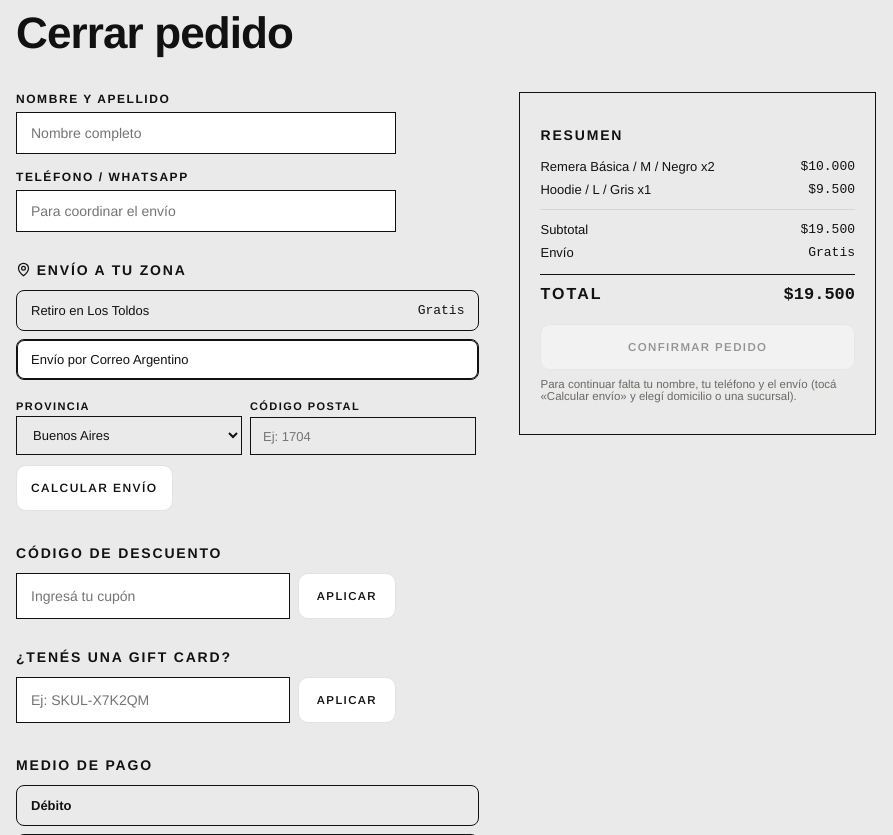
Scenario: Envío por Correo Argentino › falla la cotización: muestra el mensaje de la API
Type "99999" into the field with placeholder "Ej: 1704" at (363, 436), box [250, 417, 476, 455]
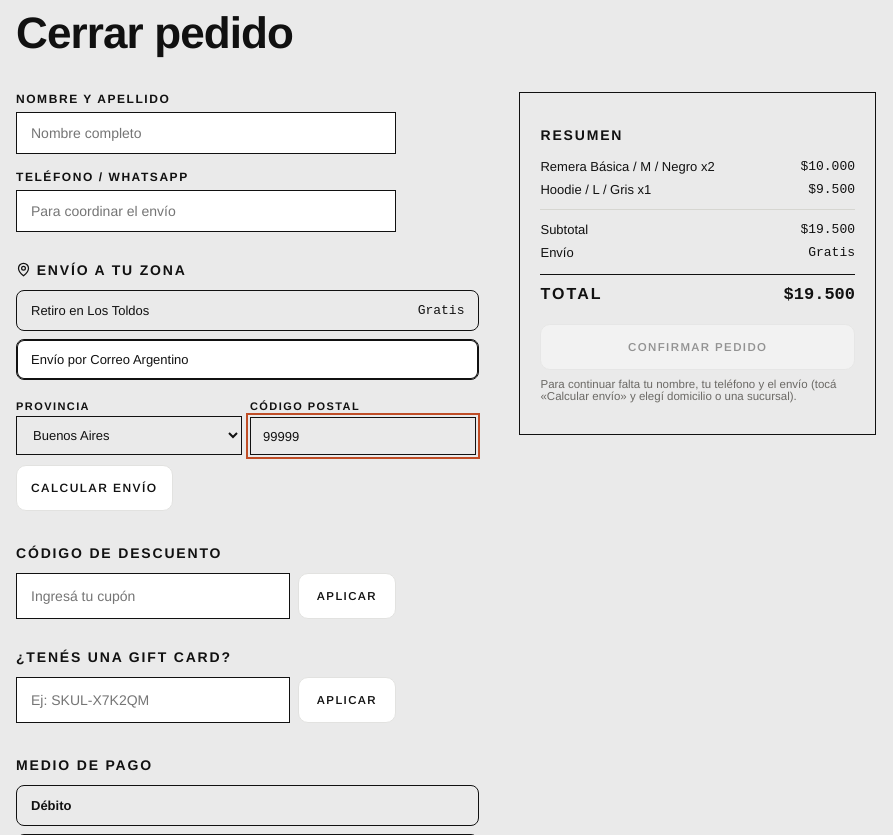
Click the button "Calcular envío" at (94, 488), box [16, 465, 173, 511]
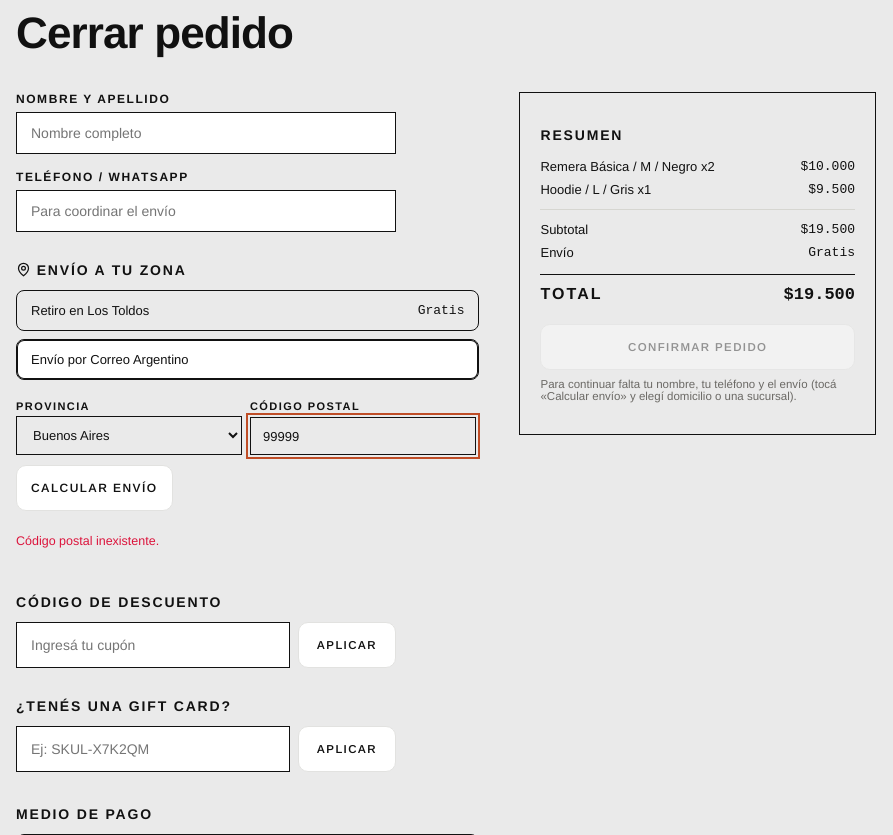
Result: the text "Código postal inexistente." is shown at [16, 534, 159, 548]
